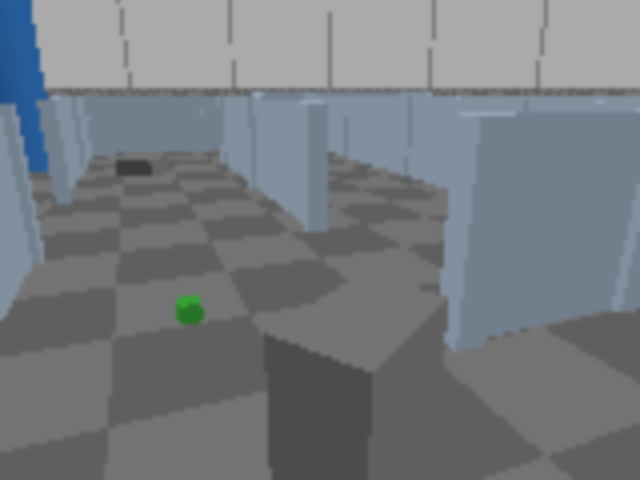puck: (175, 295, 203, 325)
